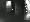person: (25, 1, 30, 21), (17, 3, 22, 15), (7, 3, 12, 12)
